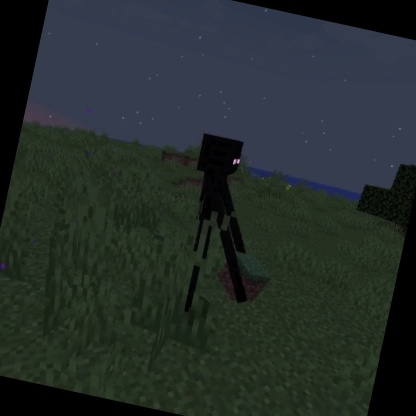enderman: (162, 129, 282, 328)
